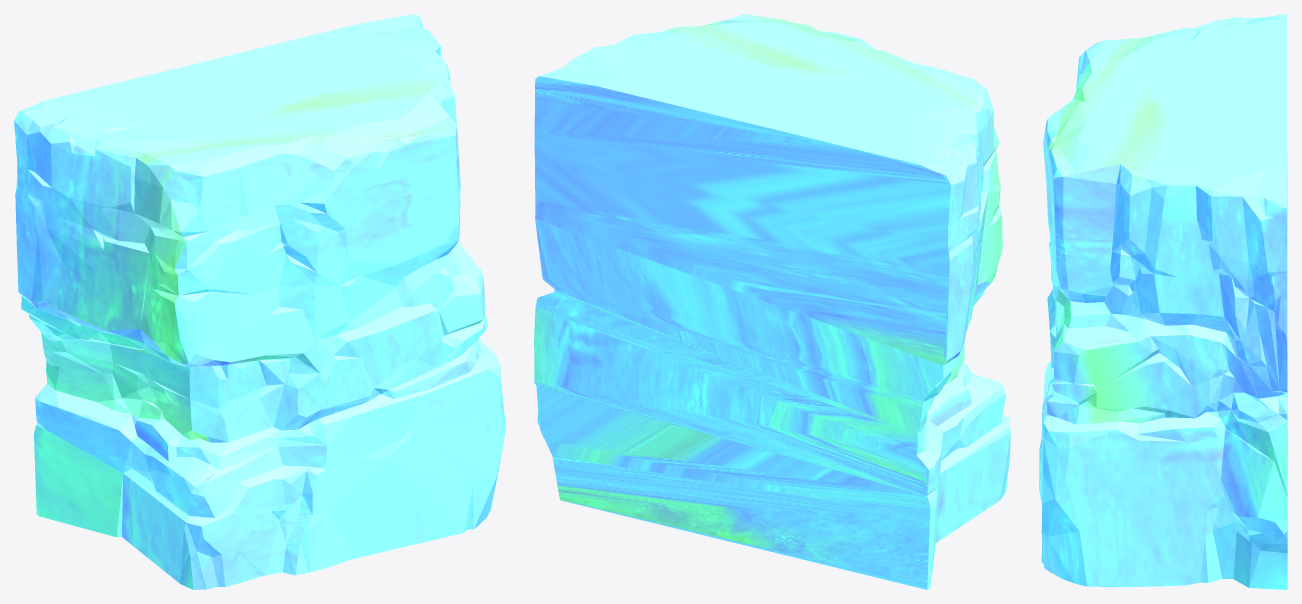
File: CliffRockC.fbx
3 renders of one model, left to right at view 1: azimuth 30°, elevation 25°; view 2: azimuth 150°, elevation 25°; view 3: azimuth 270°, elevation 25°, orthographic. The views are drawn at different scales.
Parts seen in each view (by area): view 1: Dn_HL_Cliff_Rock_A_Edge_C.mo; view 2: Dn_HL_Cliff_Rock_A_Edge_C.mo; view 3: Dn_HL_Cliff_Rock_A_Edge_C.mo.
Boxes of the visible parts, box(x1,y1,x2,y2) form: Dn_HL_Cliff_Rock_A_Edge_C.mo: box(14, 14, 505, 589); Dn_HL_Cliff_Rock_A_Edge_C.mo: box(534, 14, 1010, 589); Dn_HL_Cliff_Rock_A_Edge_C.mo: box(1039, 14, 1287, 589).
Size of the model in its own units: 1413 by 1373 by 767.
